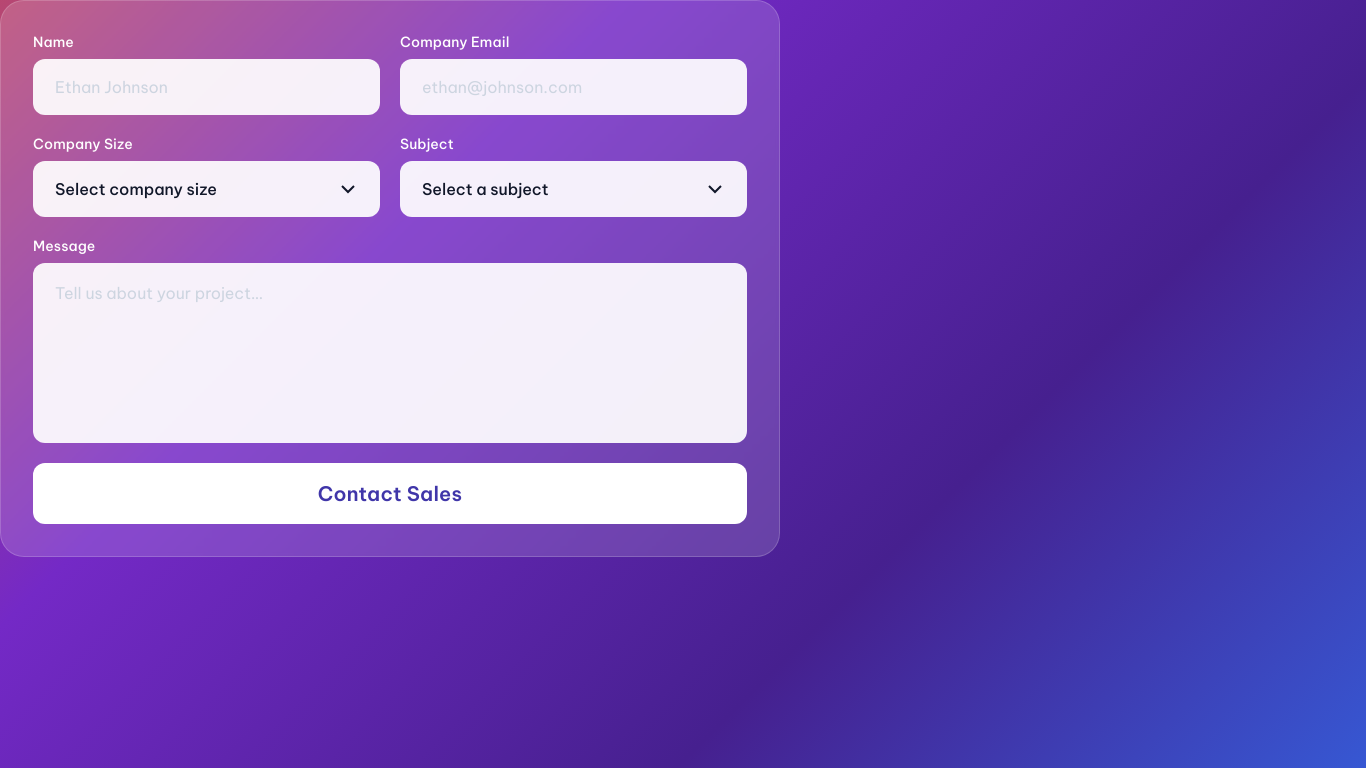
Test: ContactForm › submit validation › shows all 5 errors when submitting an empty form
Click the button "Contact Sales".
click(390, 494)  # box left=33, top=463, right=747, bottom=524
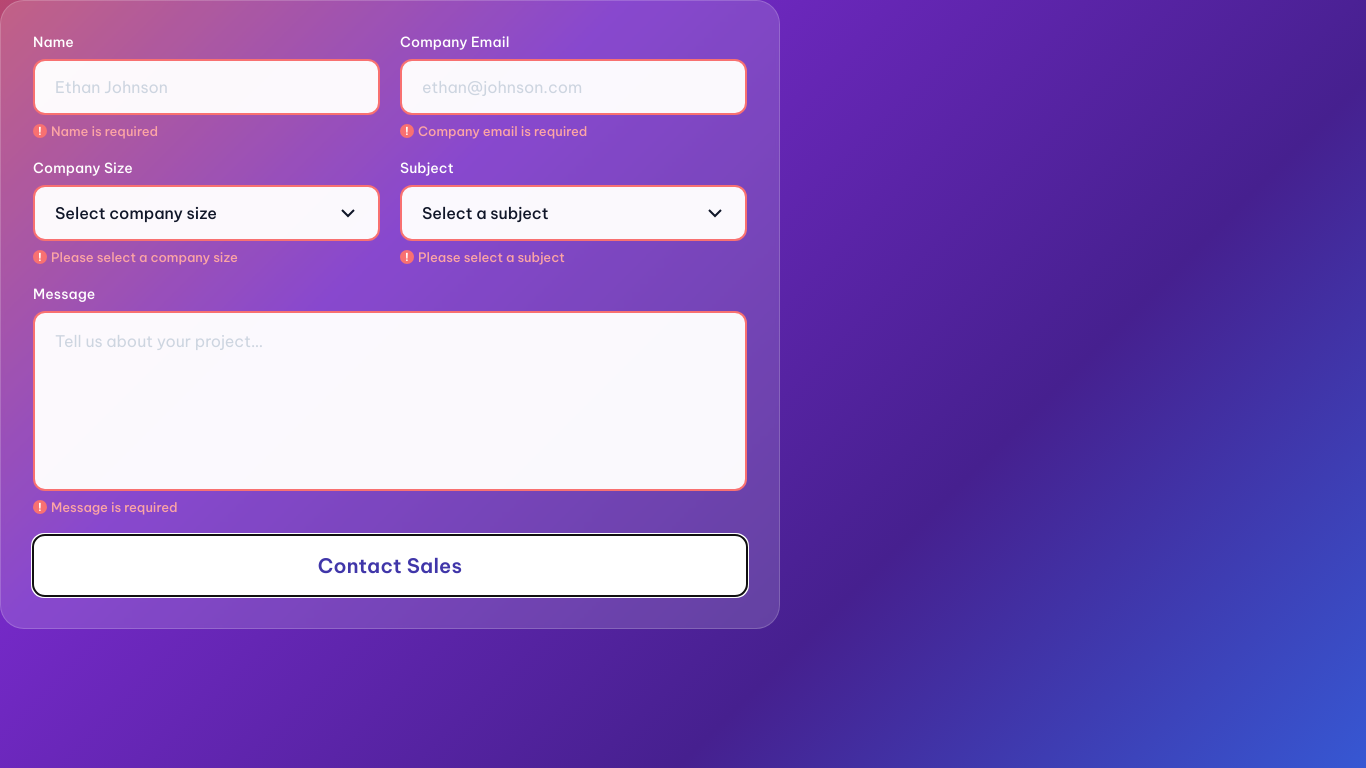
Expected: the number of messages is 5, left=51, top=123, right=158, bottom=139; left=418, top=123, right=587, bottom=139; left=51, top=249, right=238, bottom=265; left=418, top=249, right=565, bottom=265; left=51, top=499, right=178, bottom=515
